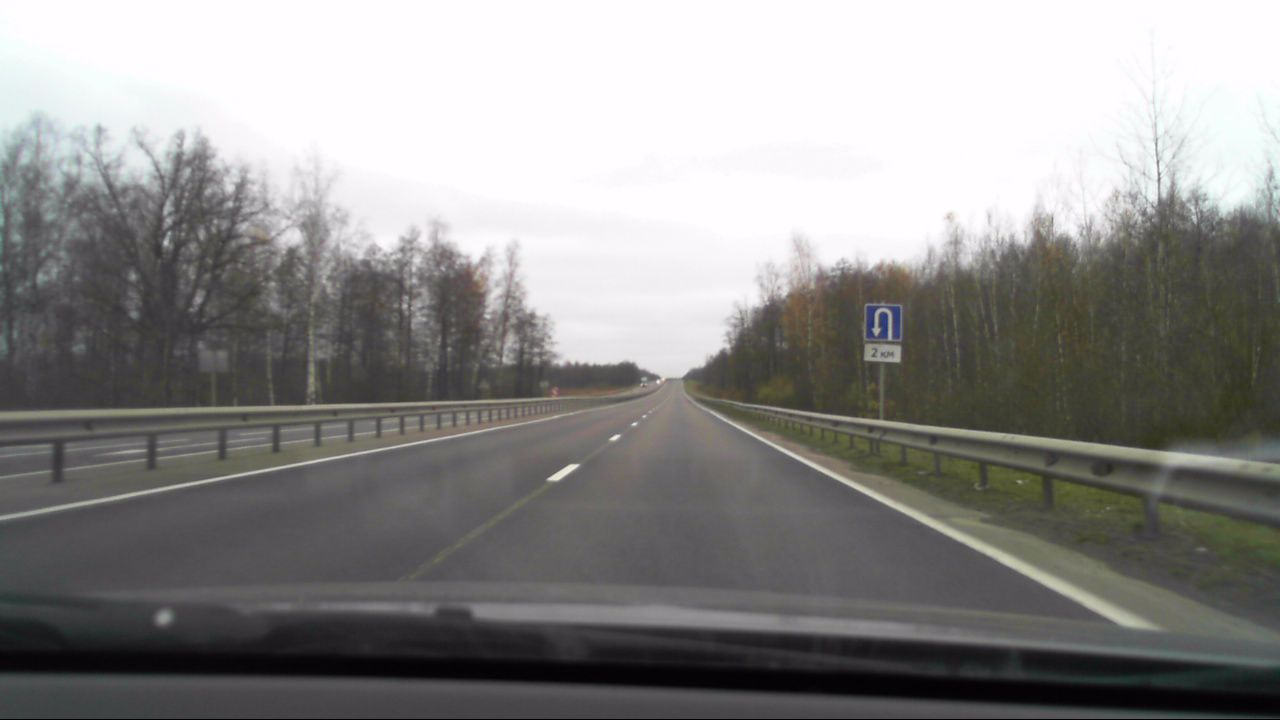U-turn: (864, 305, 903, 341)
